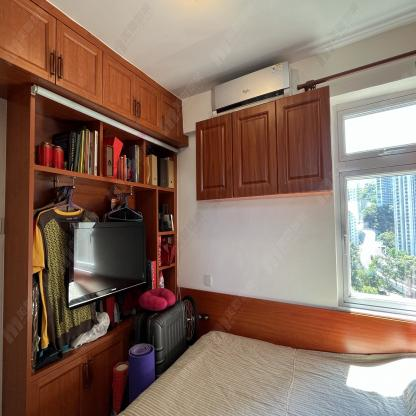AC: (211, 60, 293, 117)
Bed: (116, 326, 416, 416)
Cupboard: (196, 86, 333, 202)
